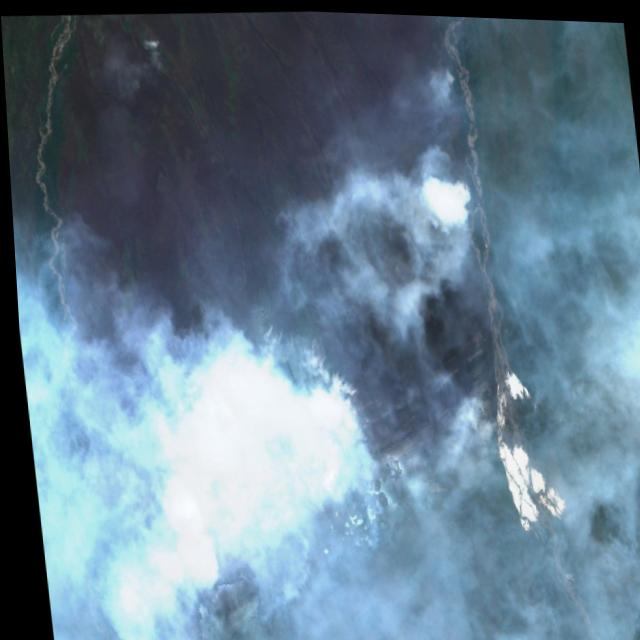fire: (54, 296, 525, 566), (417, 138, 486, 230)
